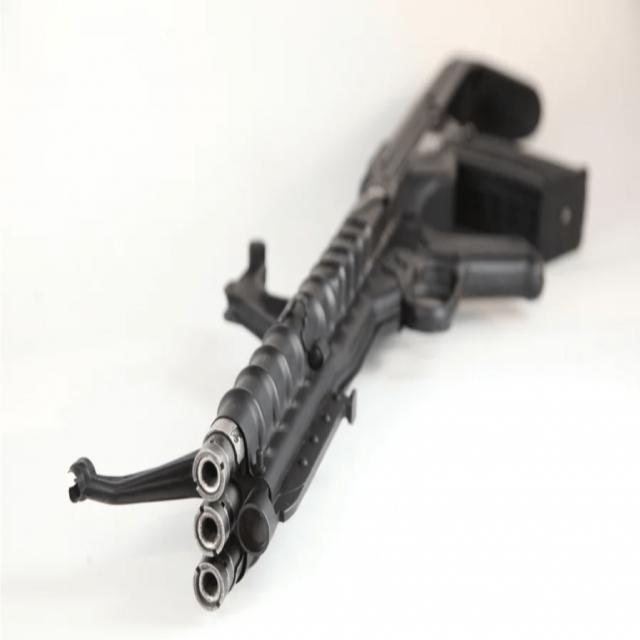firearm: (192, 56, 584, 610)
